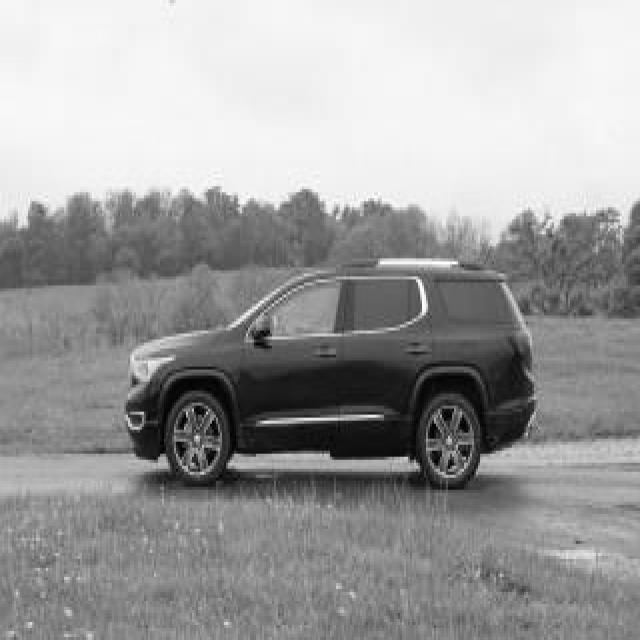Car: (130, 261, 534, 487)
